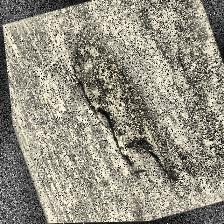pothole: (59, 26, 175, 198)
